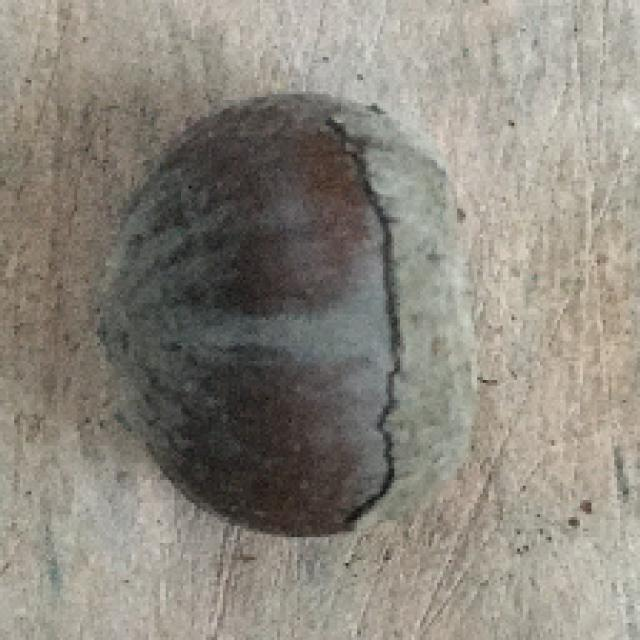DamagedHazelnut: (96, 98, 484, 539)
